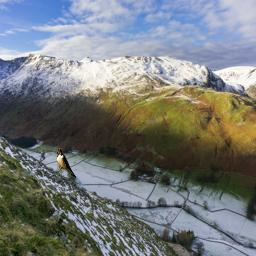Swallow: (57, 148, 83, 188)
